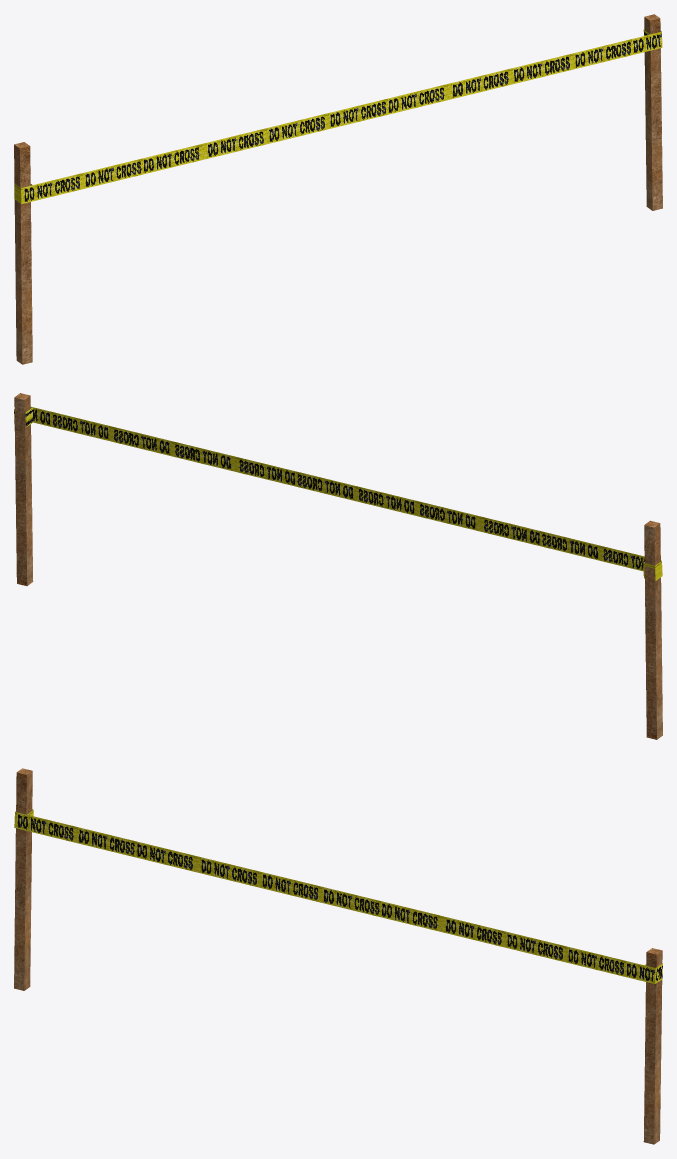
Rendered from do_not_cross.glb.
3 renders of one model, top to bottom at view 1: azimuth 30°, elevation 25°; view 2: azimuth 150°, elevation 25°; view 3: azimuth 330°, elevation 25°, orthographic.
Visible parts, largest first — view 1: Yellow Tape, wood-col, wood-col.001; view 2: Yellow Tape, wood-col, wood-col.001; view 3: Yellow Tape, wood-col, wood-col.001.
Part boxes in pixels (x1,y1,x2,y2): Yellow Tape: (14,29,662,203); wood-col: (14,142,32,364); wood-col.001: (644,14,662,210); Yellow Tape: (14,407,662,580); wood-col: (644,520,662,739); wood-col.001: (14,393,33,585); Yellow Tape: (14,809,662,983); wood-col: (14,768,32,990); wood-col.001: (643,948,662,1144).
Size of the model in its own units: 7.45 by 2.38 by 0.171.
Materials: 2 (2 with a texture image).
